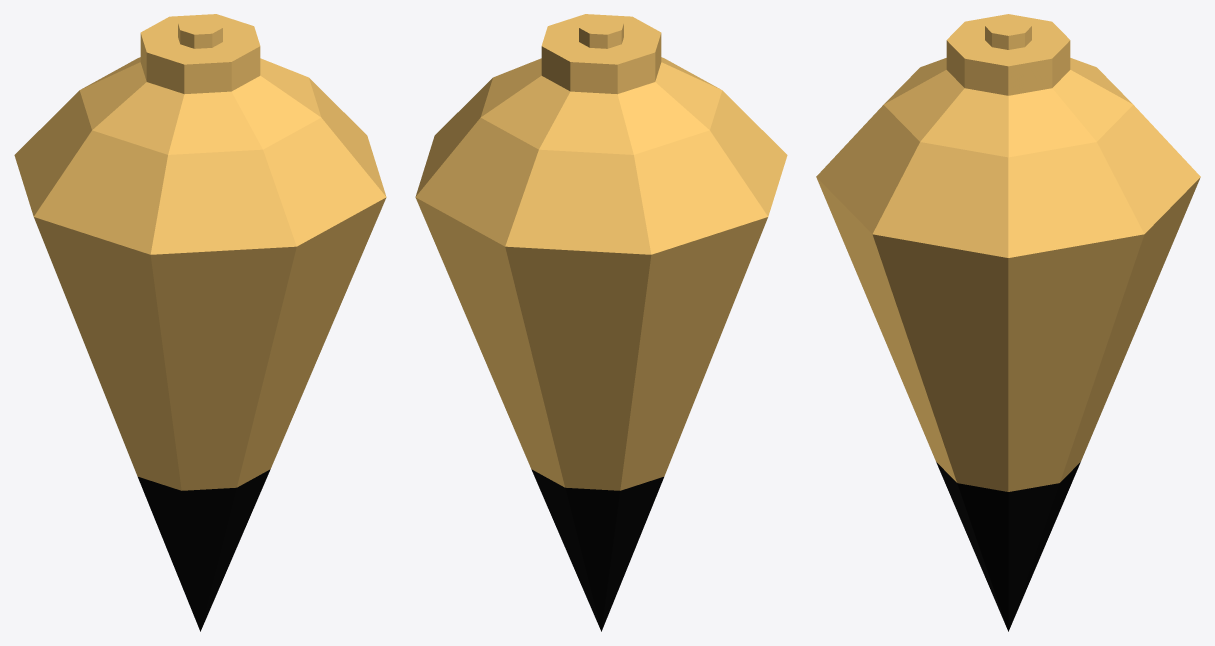
The model's file is plumbbob01.gltf.
3 views of the same model, side by side, from view 1: azimuth 30°, elevation 25°; view 2: azimuth 150°, elevation 25°; view 3: azimuth 270°, elevation 25° (orthographic).
Visible parts, largest first — view 1: Cone; view 2: Cone; view 3: Cone.
Part boxes in pixels (x1=…): Cone: x1=14, y1=14, x2=386, y2=631; Cone: x1=415, y1=14, x2=787, y2=631; Cone: x1=816, y1=14, x2=1200, y2=631.
Bounding box in the file's own units: 0.0387 × 0.0673 × 0.0387.
1 material, 1 textured.
